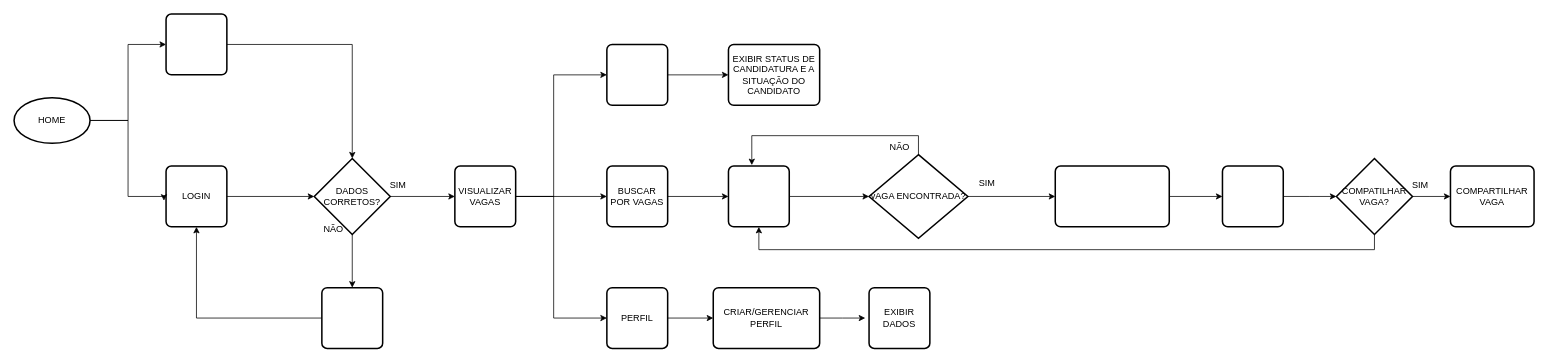
The diagram is 1547 pixels wide and 362 high, and some of its shapes have lost their labels. The shapes that lost their labels are listed below. From the top down, each one's centre as x and y in pixels, then its label:
At (196,44): "CADASTRO USUARIO".
At (637,74): "MINHAS VAGAS".
At (758,196): "EXIBIR VAGAS".
At (1112,196): "ENVIAR CURRICULO/REPONDER AUTOAVALIAÇÃO".
At (1252,196): "CANDIDATAR A VAGAS".
At (352,318): "RECUPERAR SENHA".
